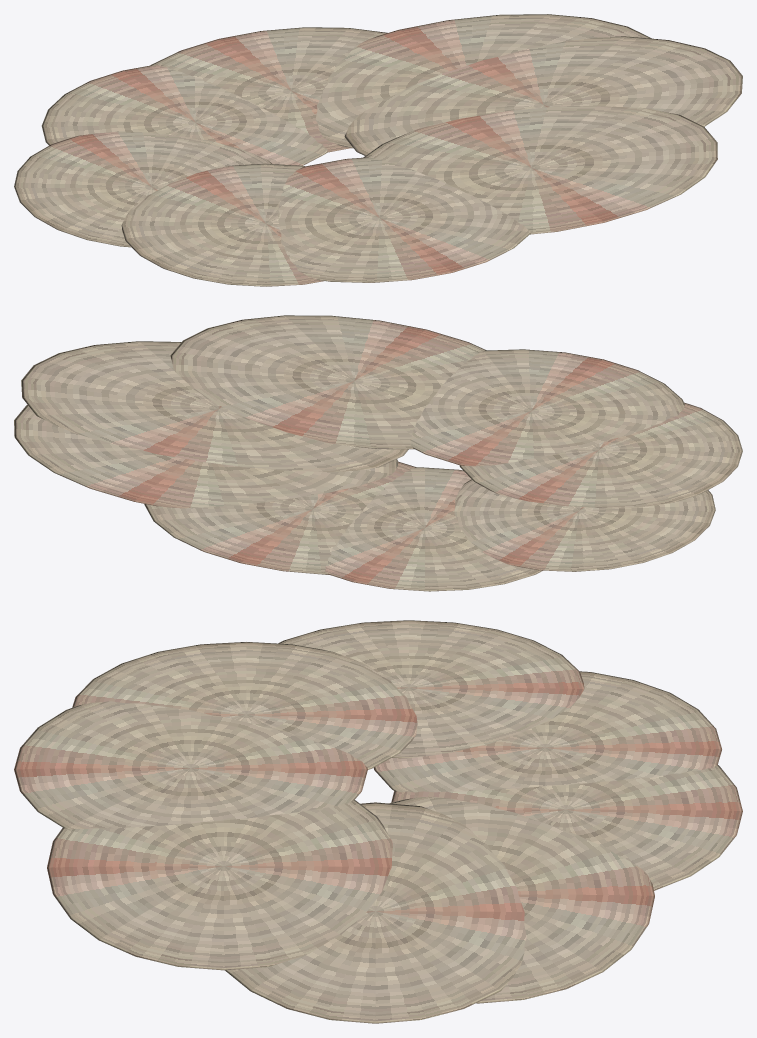
Rendered from dust.glb.
3 views of the same model, one above another, from view 1: azimuth 30°, elevation 25°; view 2: azimuth 150°, elevation 25°; view 3: azimuth 270°, elevation 25° (orthographic). The views are drawn at different scales.
Parts seen in each view (by area): view 1: fragment (×8); view 2: fragment (×8); view 3: fragment (×8).
Boxes of the visible parts, x1,y1,x2,y2 form: fragment (×8): (14, 14, 742, 286); fragment (×8): (14, 315, 742, 591); fragment (×8): (14, 620, 742, 1023).
Size of the model in its own units: 0.7153 by 0.00494 by 0.5457.
Materials: 1 (1 with a texture image).
